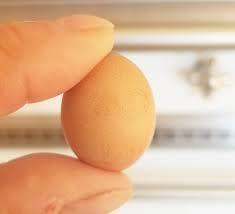egg: (59, 49, 162, 167)
